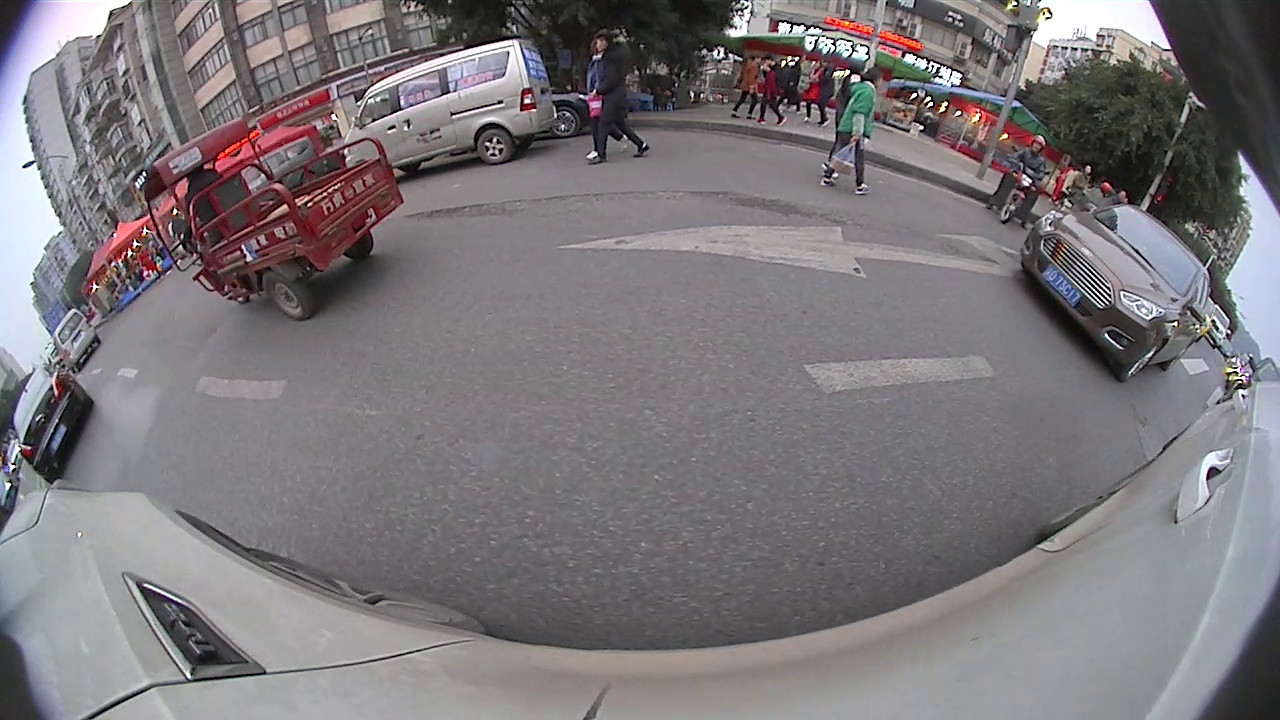bus: (170, 2, 986, 256), (957, 79, 1101, 161), (50, 222, 133, 359)
car: (959, 138, 1154, 291), (1118, 267, 1257, 427), (100, 237, 200, 348), (1129, 244, 1190, 292)
front: (299, 148, 376, 228), (1041, 231, 1089, 283)
rear: (753, 84, 833, 172), (1098, 260, 1131, 292), (122, 317, 147, 346)
truck: (2, 213, 110, 541)
